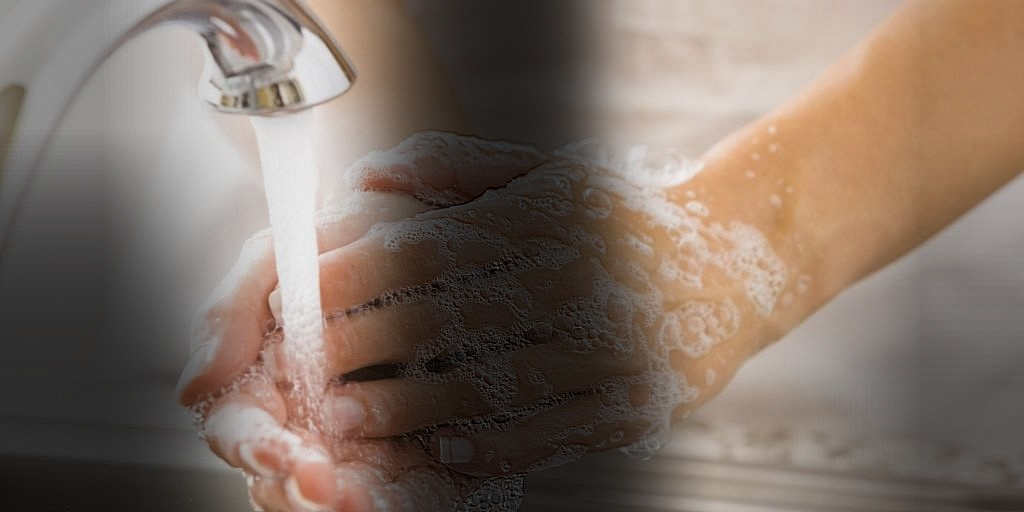washing hand: (149, 29, 836, 494)
